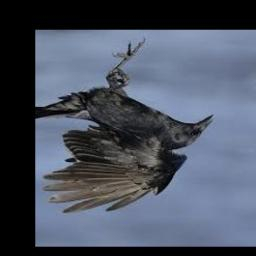Crow: (35, 35, 216, 214)
